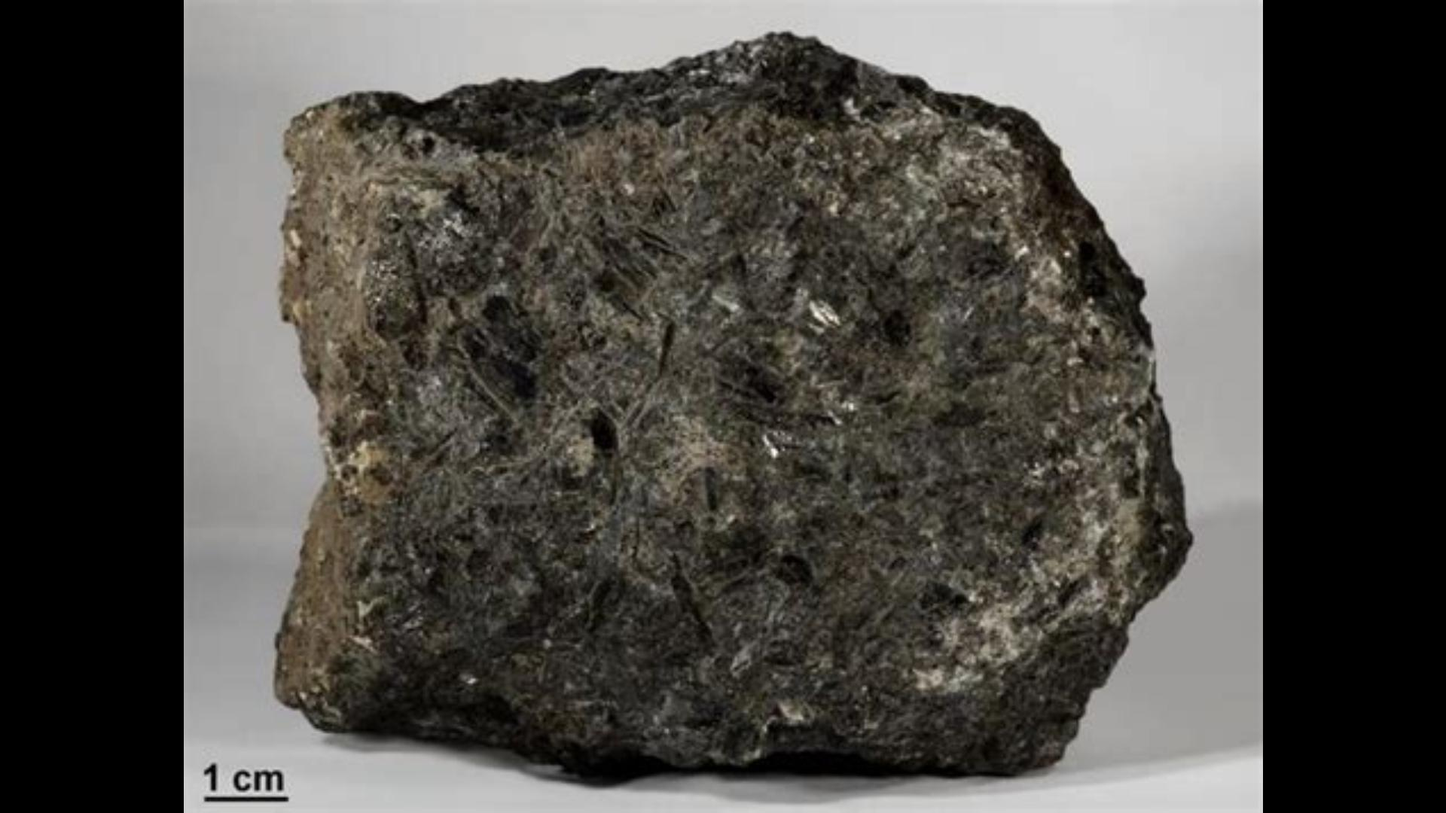rock: (276, 34, 1188, 770)
